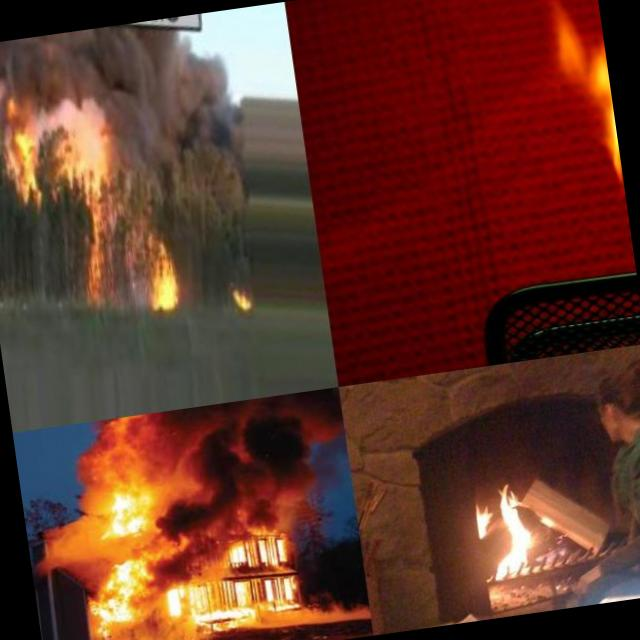fire: (567, 0, 625, 197), (464, 471, 554, 586), (184, 560, 308, 638), (80, 557, 158, 636), (97, 479, 157, 542), (78, 200, 115, 296), (144, 236, 192, 310), (224, 524, 292, 570), (13, 112, 46, 192), (57, 142, 113, 188), (224, 280, 258, 310)
smoke: (142, 387, 356, 541), (28, 29, 235, 150), (69, 414, 150, 490), (36, 534, 180, 572), (38, 486, 104, 552), (308, 590, 370, 624), (180, 533, 228, 576), (0, 41, 16, 153), (148, 552, 186, 596)
